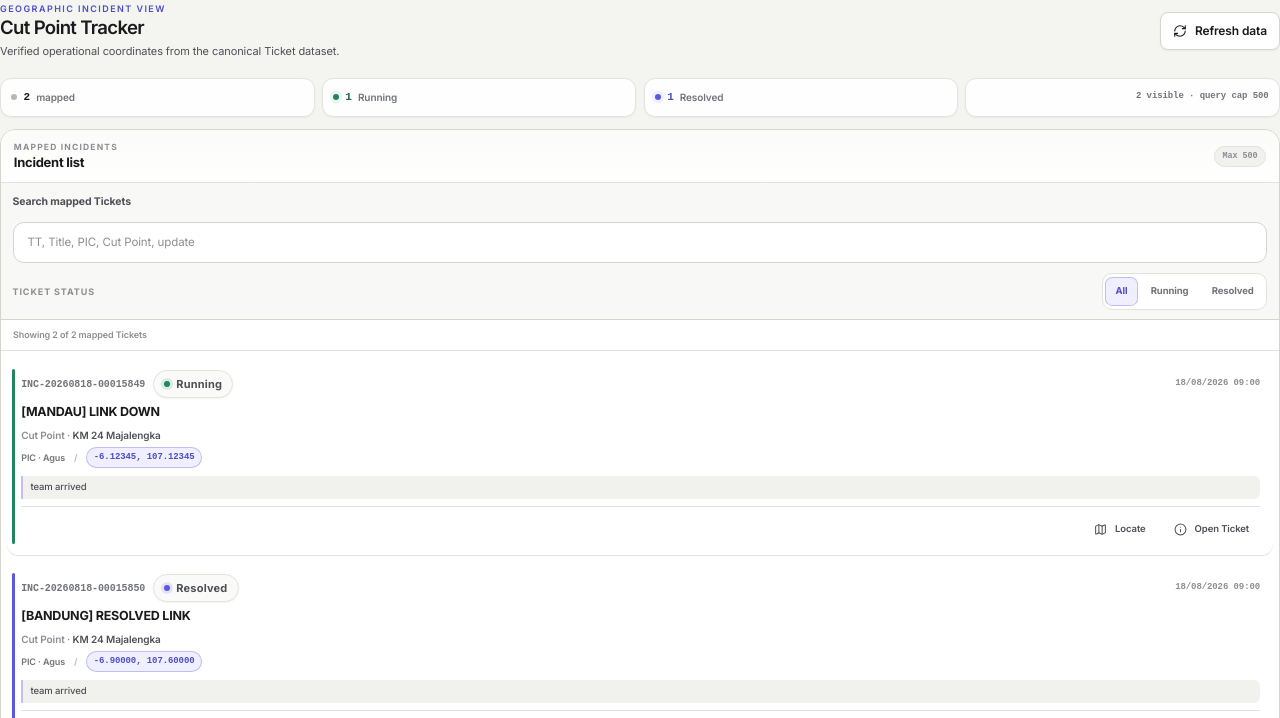
Scenario: CutPointTrackerPage › filters the marker list and map with the Radix status scope and search
Expected: the heading "[MANDAU] LINK DOWN" is shown, [21,404,160,419]
Click the radio button labelled "Resolved" at (1233, 291), box [1201,277,1264,306]
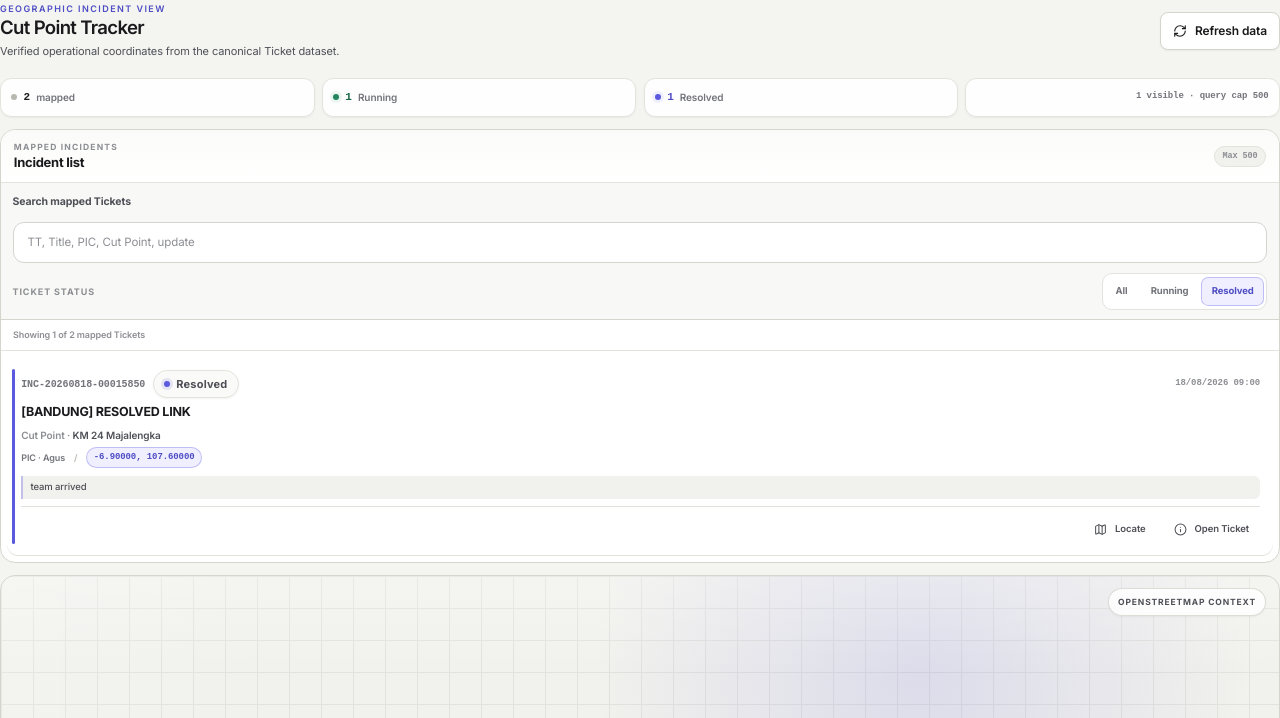
Expected: the heading "[BANDUNG] RESOLVED LINK" is shown, [21,404,191,419]
Result: the heading "[MANDAU] LINK DOWN" is gone
Type "does-not-exist" into the field labelled "Search mapped Tickets" at (640, 242), box [12,222,1268,263]
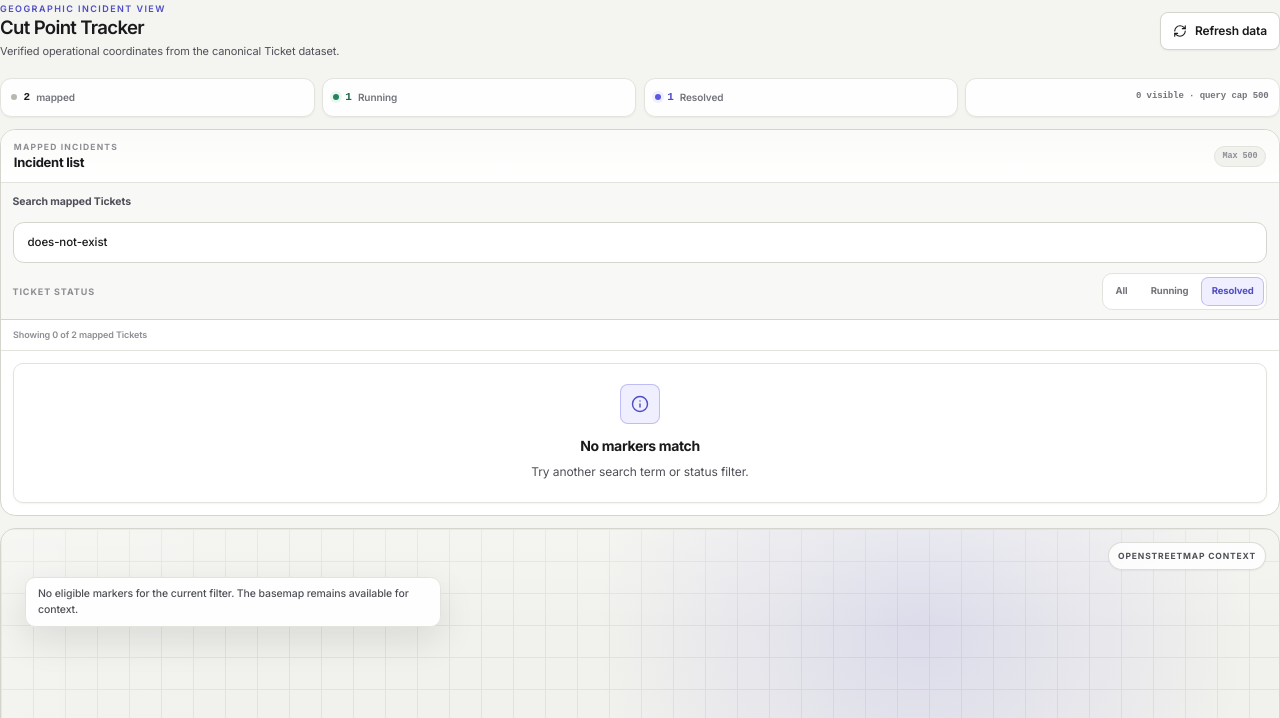
Result: the heading "No markers match" is shown at [580,437,700,454]
